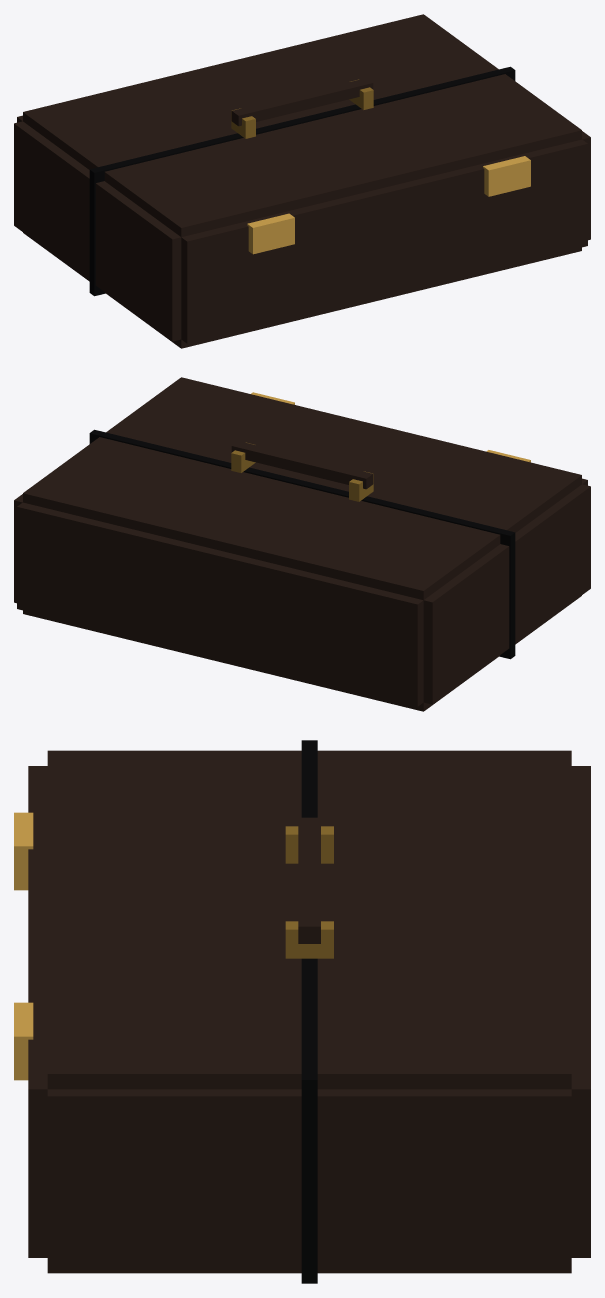
Rendered from briefcase.glb.
The picture shows the model from 3 angles, top to bottom: view 1: azimuth 30°, elevation 25°; view 2: azimuth 150°, elevation 25°; view 3: azimuth 270°, elevation 25°; orthographic projection. The views are drawn at different scales.
Parts seen in each view (by area): view 1: briefcase; view 2: briefcase; view 3: briefcase.
Part boxes in pixels (bbox=[...]): briefcase: bbox=[14, 14, 590, 348]; briefcase: bbox=[14, 377, 590, 711]; briefcase: bbox=[14, 740, 590, 1283].
Size of the model in its own units: 0.5 by 0.166 by 0.359.
